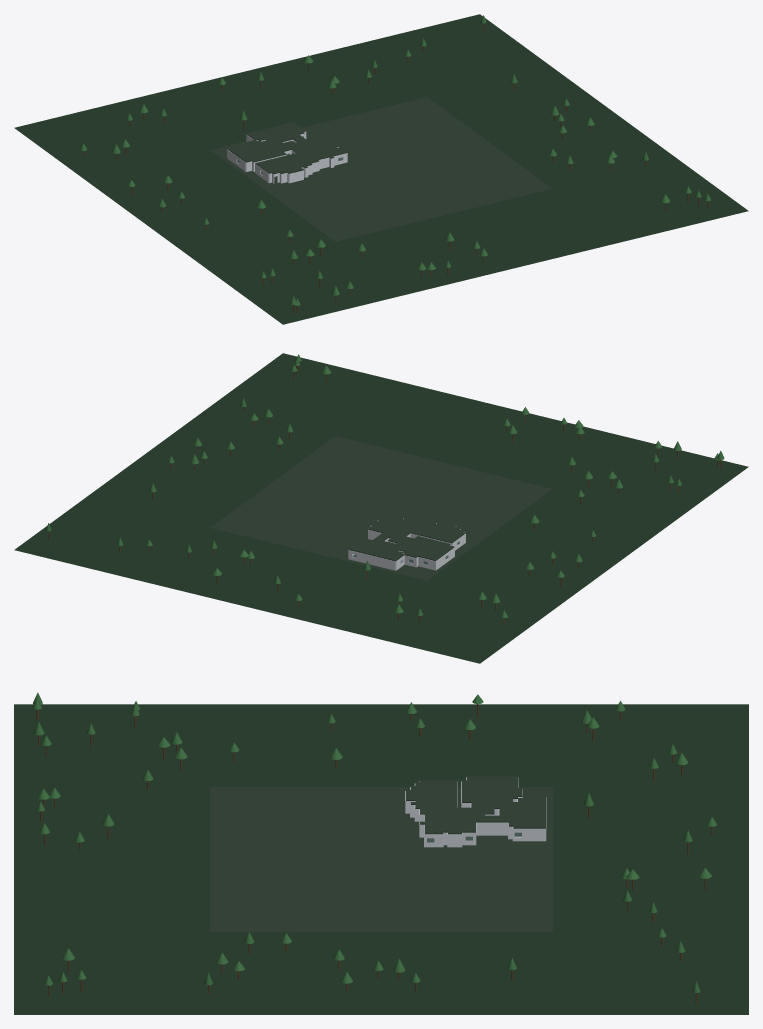
The model's file is level-small-loop.glb.
The picture shows the model from 3 angles, top to bottom: view 1: azimuth 30°, elevation 25°; view 2: azimuth 150°, elevation 25°; view 3: azimuth 270°, elevation 25°; orthographic projection. The views are drawn at different scales.
Visible parts, largest first — view 1: svg-stage; view 2: svg-stage; view 3: svg-stage.
Part boxes in pixels (x1,y1,x2,y2): svg-stage: (14, 14, 748, 324); svg-stage: (14, 353, 748, 663); svg-stage: (14, 692, 748, 1014).
Bounding box in the file's own units: 157 × 6.08 × 157.
